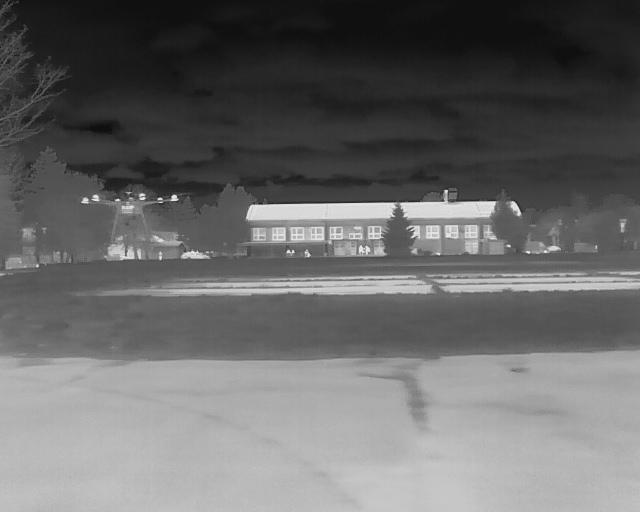drone: (68, 188, 181, 236)
